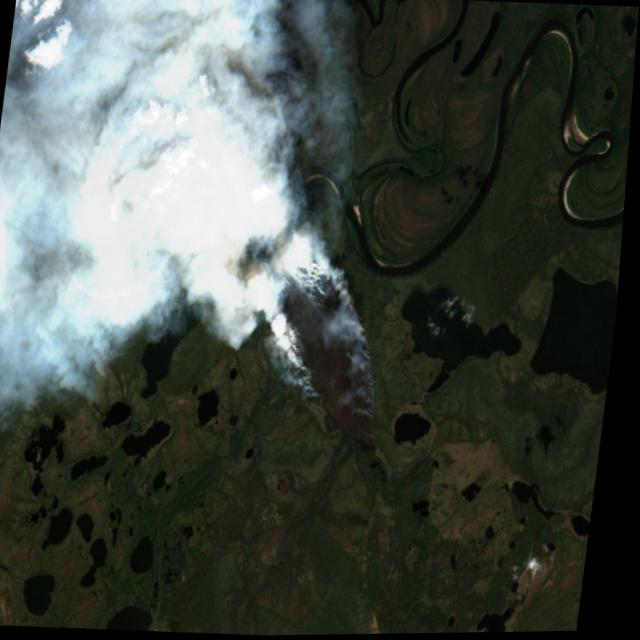fire: (232, 221, 408, 458)
